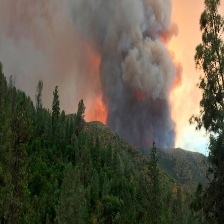smoke: (1, 1, 182, 147)
